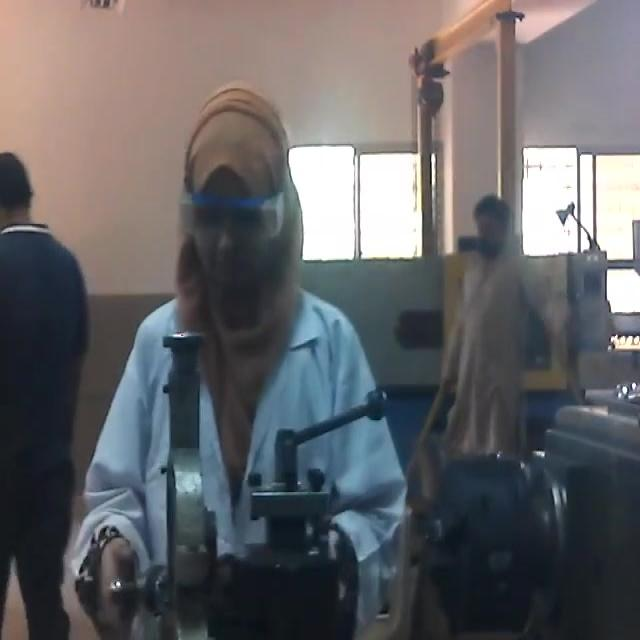googles: (170, 188, 289, 240)
labcoat: (60, 294, 413, 640)
